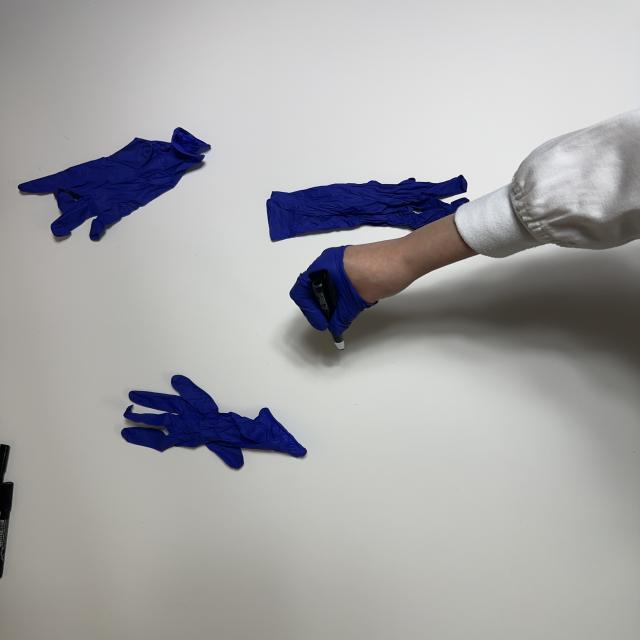glove_not_fitted: (290, 239, 416, 333)
